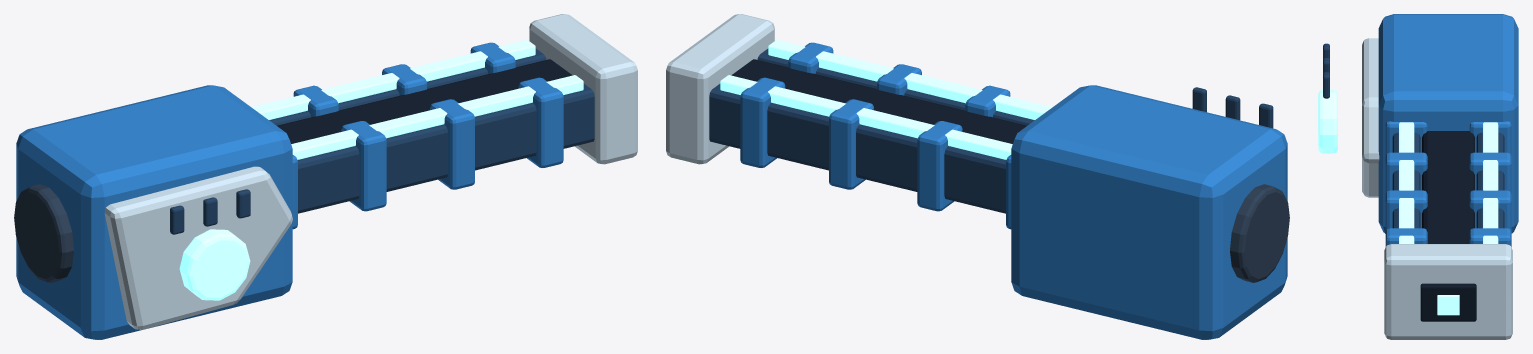
Rendered from rail_lance.glb.
3 renders of one model, left to right at view 1: azimuth 30°, elevation 25°; view 2: azimuth 150°, elevation 25°; view 3: azimuth 270°, elevation 25°, orthographic. The views are drawn at different scales.
Visible parts, largest first — view 1: ModuleArmor; view 2: ModuleArmor; view 3: ModuleArmor.
Part boxes in pixels (bbox=[...]): ModuleArmor: bbox=[14, 14, 637, 339]; ModuleArmor: bbox=[666, 14, 1289, 339]; ModuleArmor: bbox=[1318, 14, 1518, 339].
Size of the model in its own units: 2.09 by 0.57 by 0.715.
